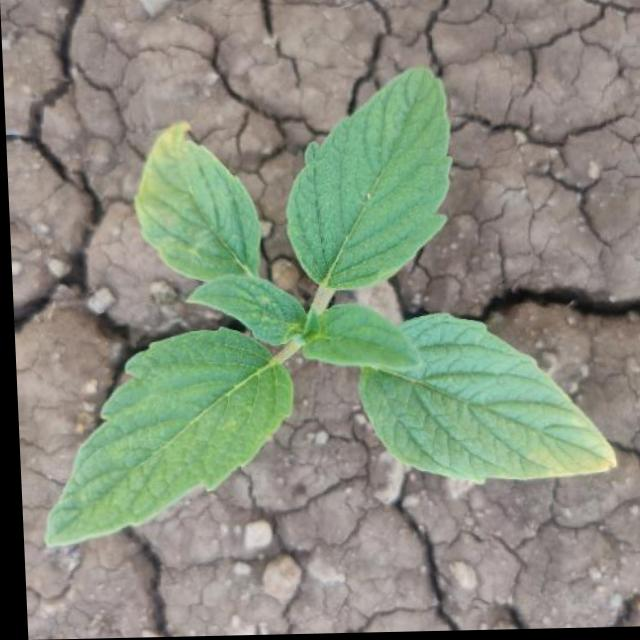crop: (21, 61, 626, 553)
